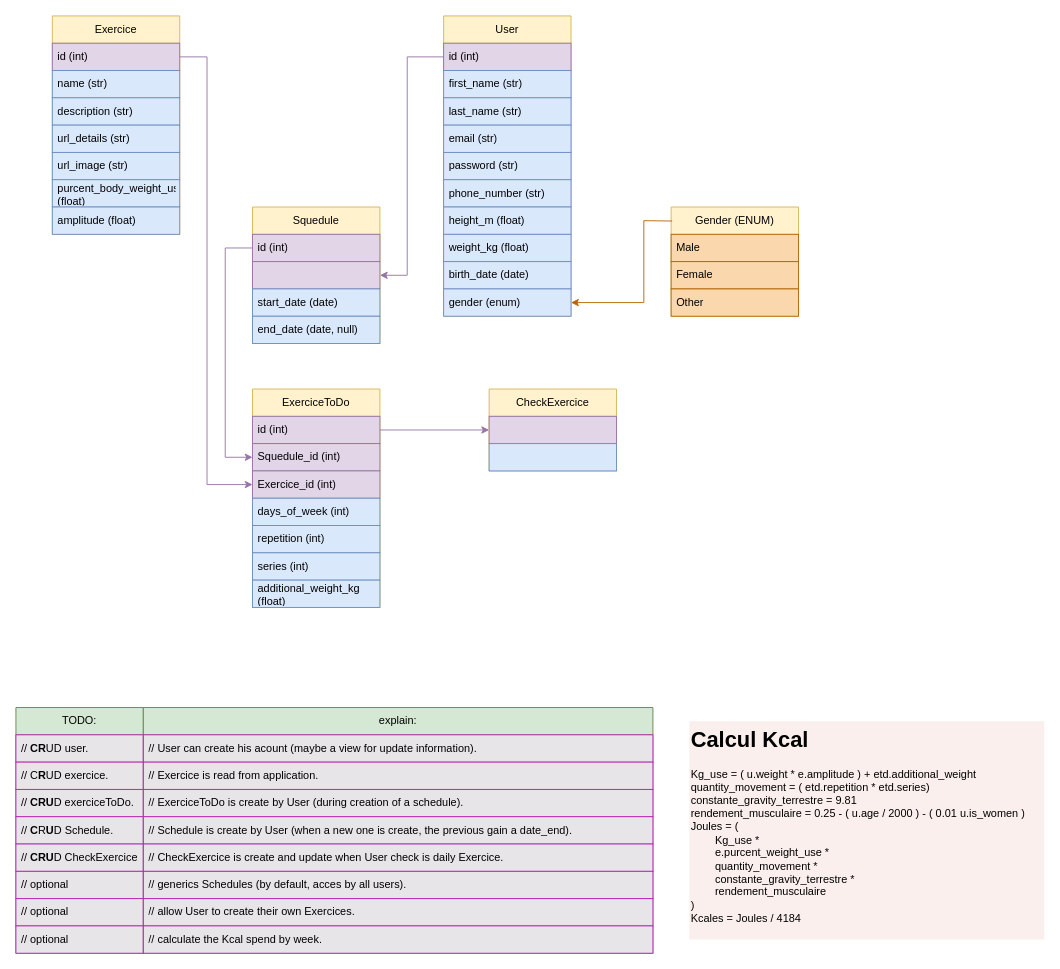
The diagram is 1060 pixels wide and 969 high, and some of its shapes have lost their labels. The shapes that lost their labels are listed below. From the top down, each one's centre as x and y in pixels, then its label:
the point at 316,275: user_id (int)
the point at 552,429: ExerciceToDo_id (int)
the point at 552,457: date_check (datetime)
